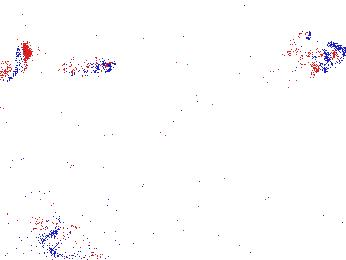X-ray fish: (272, 38, 346, 81)
red belly glassfish: (263, 26, 312, 47), (225, 176, 267, 194)
redtail glassfish: (1, 39, 117, 82)
